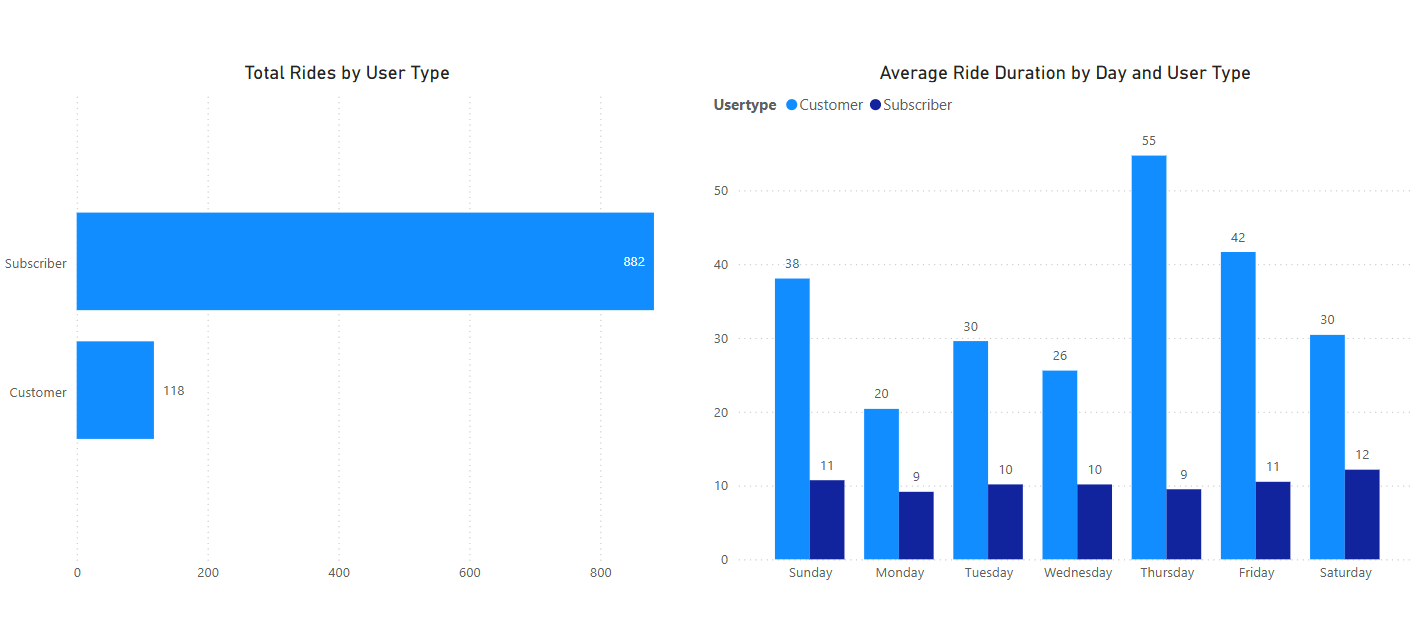

The dashboard page shown, as its layout file describes it:
{"tool":"powerbi","page":{"name":"Cyclistic Rider Analysis","canvas":[1280,720],"ordinal":0},"visuals":[{"type":"barChart","title":"Total Rides by User Type","fields":{"Category":["cyclistic_trips_core_metrics.usertype"],"Y":["Count(cyclistic_trips_core_metrics.trip_id)"]},"box":[0,114.6,634,476.4],"z":0},{"type":"clusteredColumnChart","title":"Average Ride Duration by Day and User Type","fields":{"Y":["Avg(cyclistic_trips_core_metrics.ride_length_min)"],"Series":["cyclistic_trips_core_metrics.usertype"],"Category":["cyclistic_trips_core_metrics.Day Name"]},"box":[640,114.8,640,476.6],"z":1}]}

Visuals, with their boxes on the page's 1280x720 design canvas (x1, y1, x2, y2). These are canvas units, not pixel positions in the 1414x640 screenshot, which may show the page scaled, cropped or inside an application window:
"Total Rides by User Type" barChart: bbox=[0, 115, 634, 591]
"Average Ride Duration by Day and User Type" clusteredColumnChart: bbox=[640, 115, 1280, 591]
